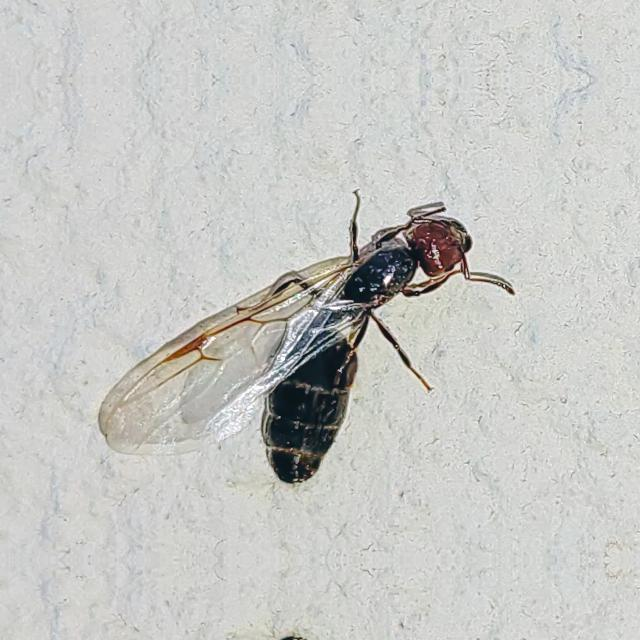Crematogaster: (211, 216, 479, 502)
